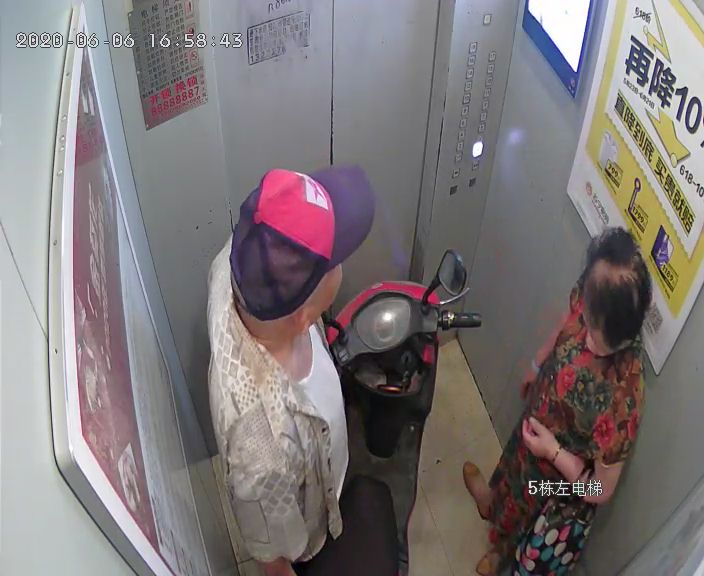Electric-bicycle: (286, 247, 485, 574)
